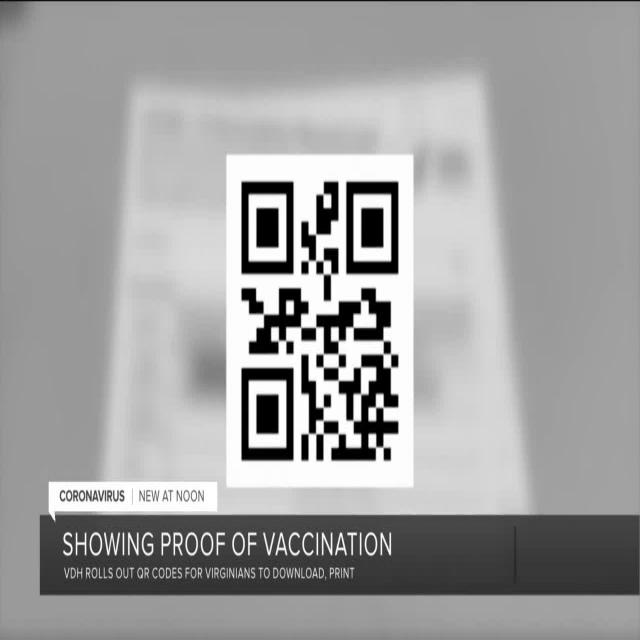QR-codes: (240, 176, 402, 464)
